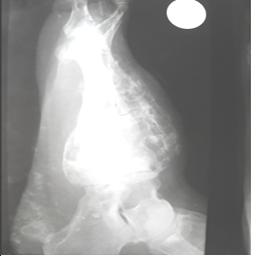cancer: (62, 49, 178, 185)
